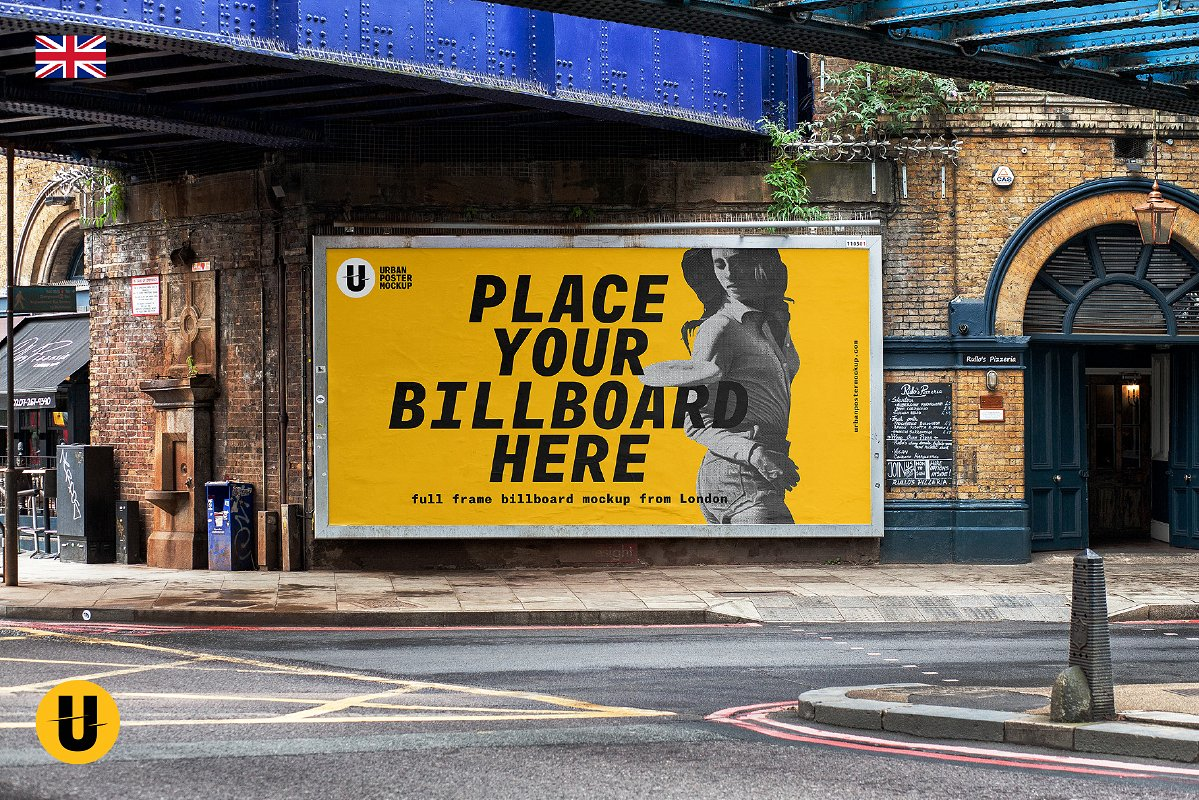poster: (310, 232, 889, 543)
